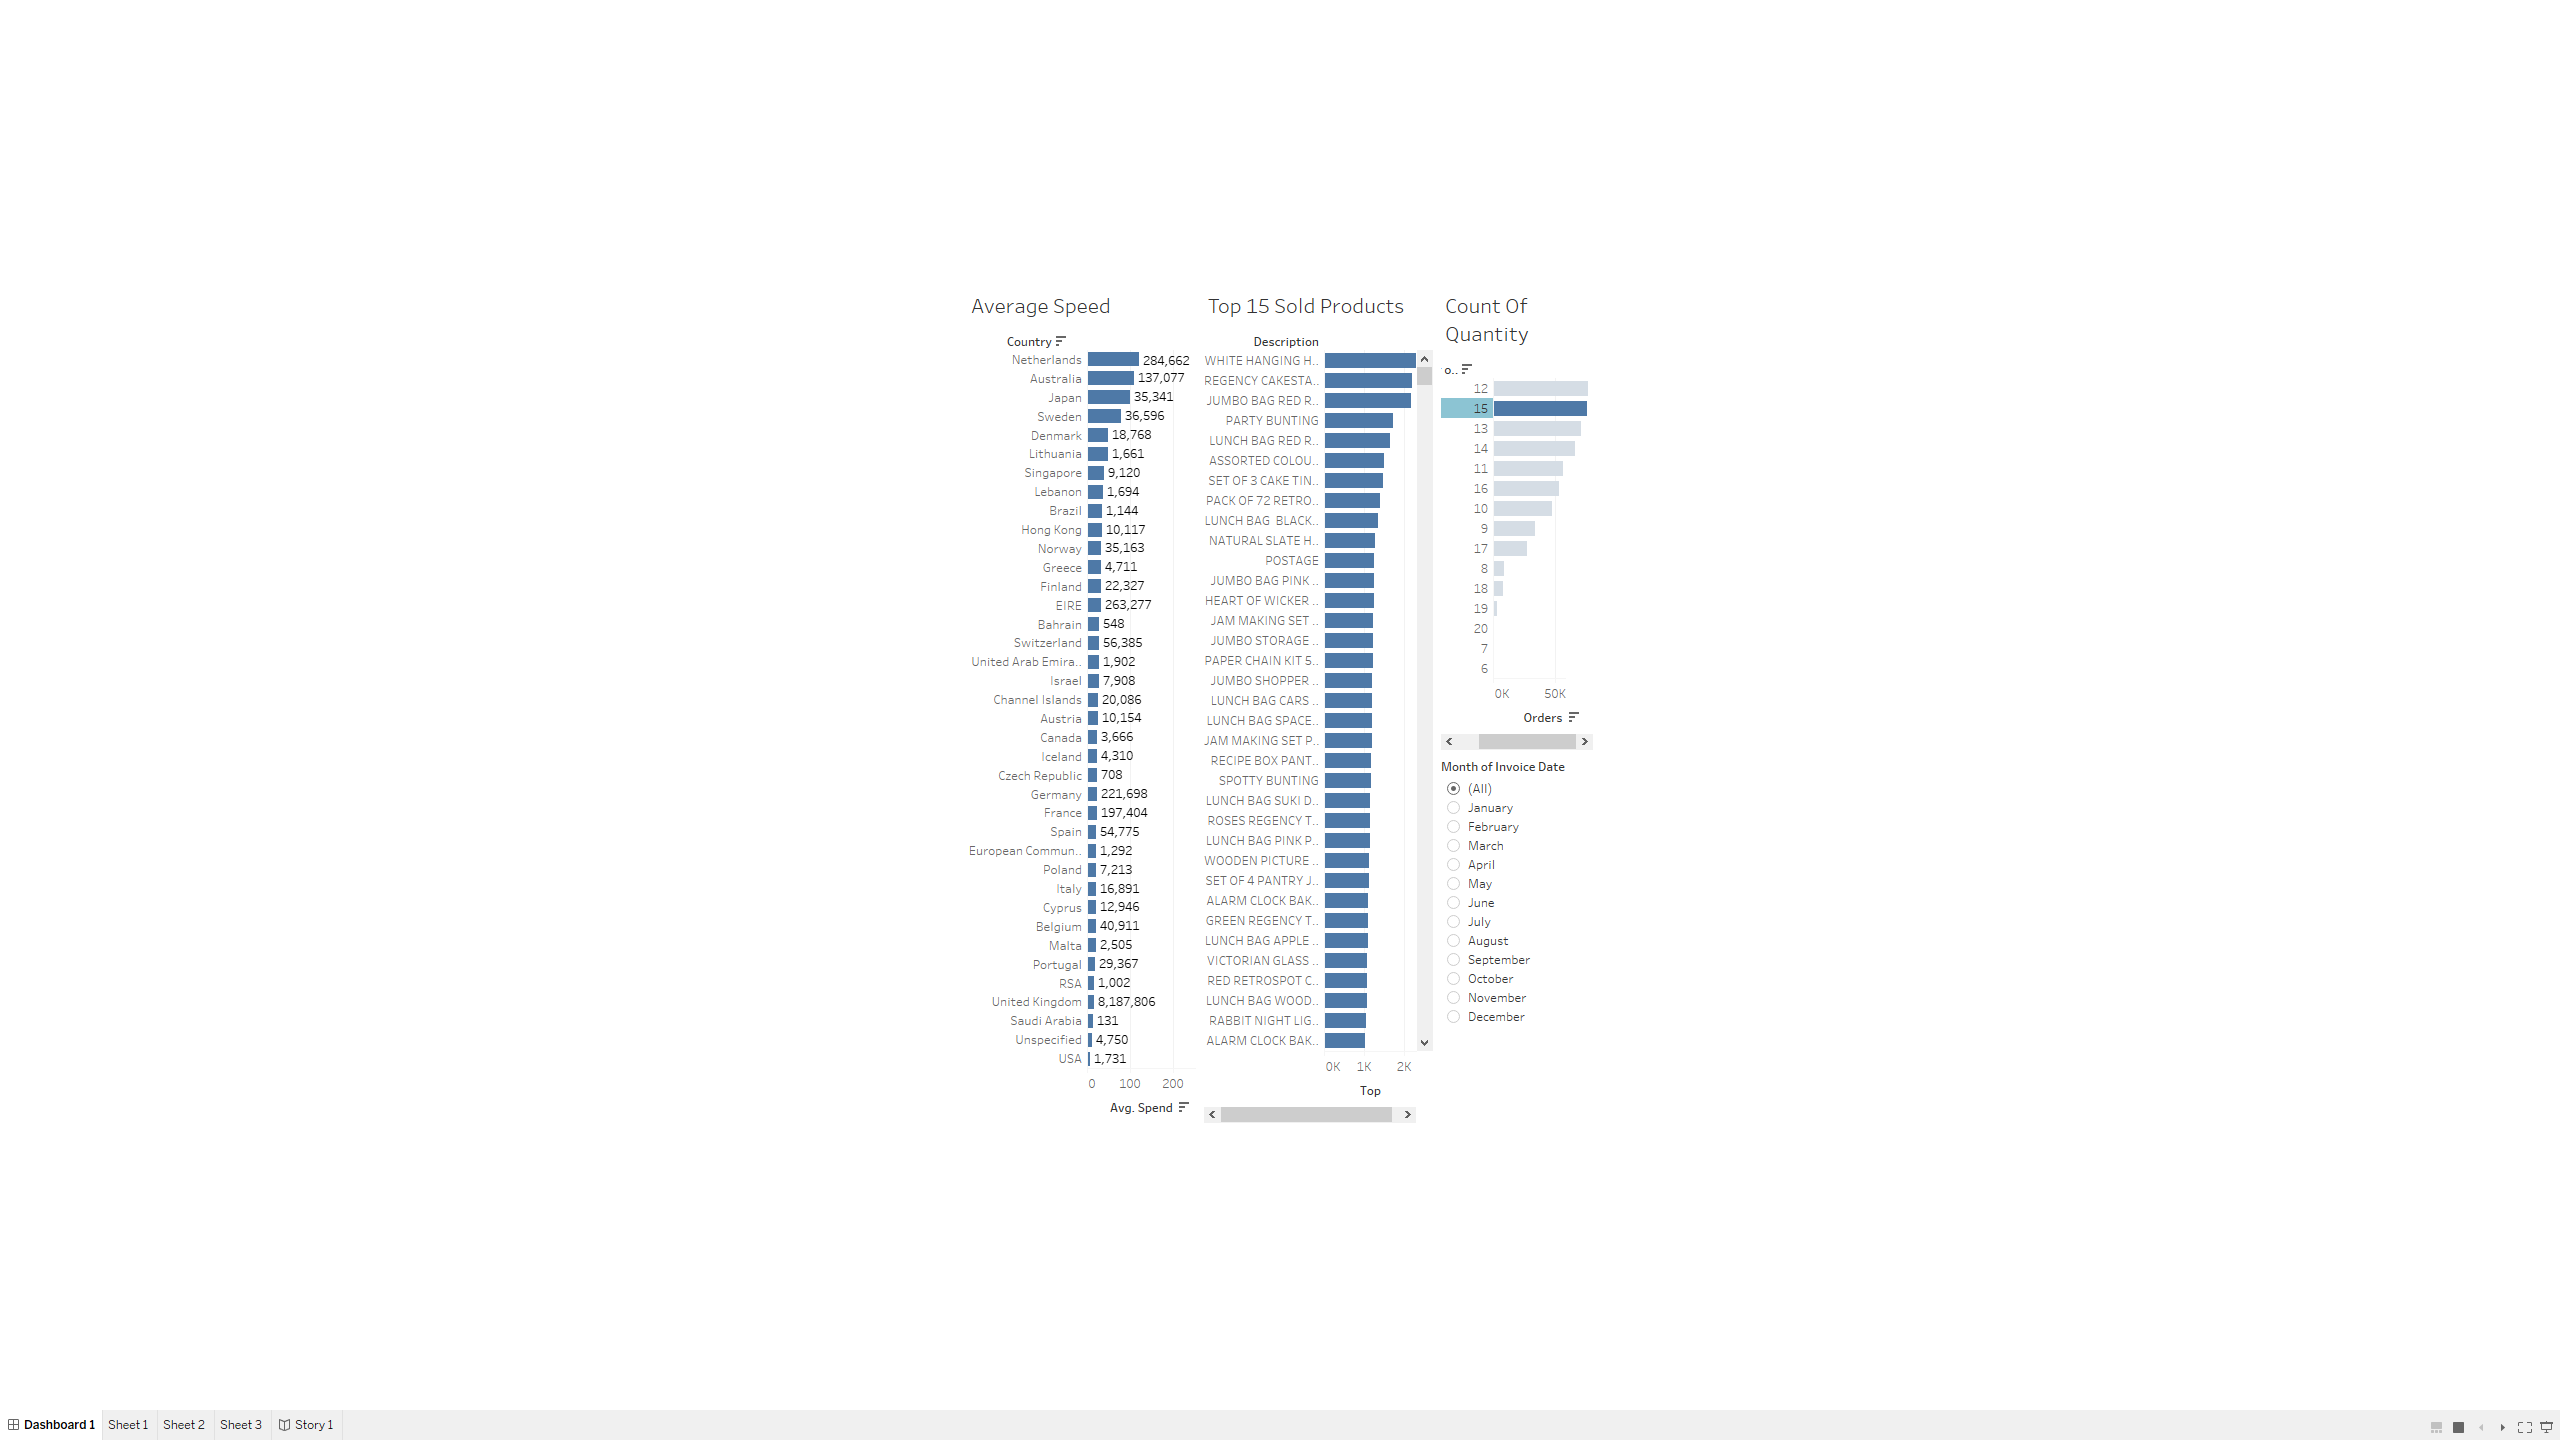

The page's visual inventory and layout, read from the dashboard file:
{"tool":"tableau","page":{"name":"Dashboard 1","canvas":[650,860],"ordinal":0},"visuals":[{"type":"worksheet","title":"Sheet 1","mark":"Automatic","rows":["Country"],"cols":["Calculation_527202633934196736"],"box":[8,11.4,237,837.2]},{"type":"worksheet","title":"Sheet 2","mark":"Automatic","rows":["Description"],"cols":["Calculation_527202633935540225"],"box":[245,11.4,237,837.2]},{"type":"worksheet","title":"Sheet 3","mark":"Bar","rows":["InvoiceDate"],"cols":["Calculation_527202633936138242"],"box":[482,11.4,160,439.3]},{"type":"filter","title":"Sheet 1","param":"[federated.0y8fbka051zrwo1018luv1six6ob].[mn:InvoiceDate:ok]","box":[482,450.7,160,397.9]}]}

Visuals, with their boxes on the page's 650x860 design canvas (x1, y1, x2, y2). These are canvas units, not pixel positions in the 2560x1440 screenshot, which may show the page scaled, cropped or inside an application window:
"Sheet 1" worksheet: (left=8, top=11, right=245, bottom=849)
"Sheet 2" worksheet: (left=245, top=11, right=482, bottom=849)
"Sheet 3" worksheet (Bar marks): (left=482, top=11, right=642, bottom=451)
"Sheet 1" filter: (left=482, top=451, right=642, bottom=849)
